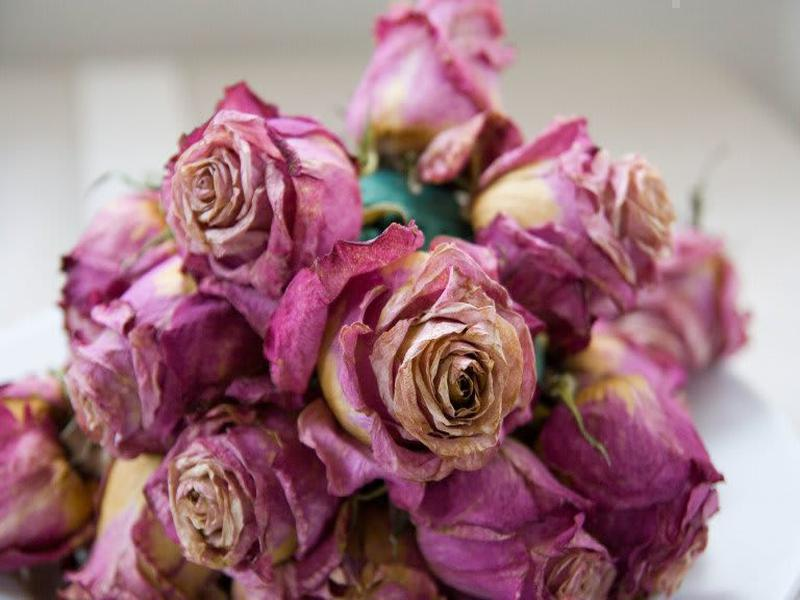flowers: (1, 8, 754, 600)
